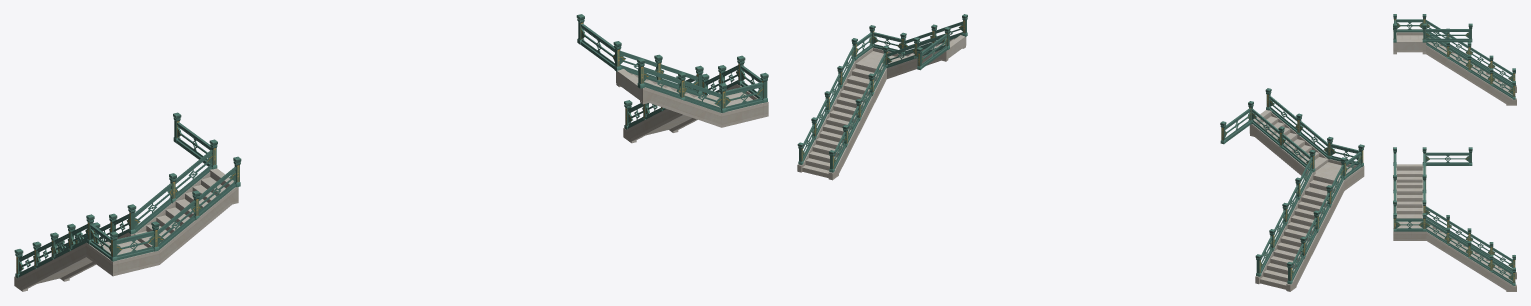
File: Homeworld_Interior_Fd_Room_P_Stair_Vo.fbx
The picture shows the model from 3 angles, left to right: view 1: azimuth 30°, elevation 25°; view 2: azimuth 150°, elevation 25°; view 3: azimuth 270°, elevation 25°; orthographic projection. The views are drawn at different scales.
Parts seen in each view (by area): view 1: Homeworld_Interior_Fd_Room_P_Stair_01_Vo, Homeworld_Interior_Fd_Room_P_Stair_01_01_Vo; view 2: Homeworld_Interior_Fd_Room_P_Stair_01_Vo, Homeworld_Interior_Fd_Room_P_Stair_01_01_Vo; view 3: Homeworld_Interior_Fd_Room_P_Stair_01_01_Vo, Homeworld_Interior_Fd_Room_P_Stair_01_Vo.
Boxes of the visible parts, x1,y1,x2,y2 form: Homeworld_Interior_Fd_Room_P_Stair_01_Vo: [14, 112, 241, 291]; Homeworld_Interior_Fd_Room_P_Stair_01_01_Vo: [576, 14, 768, 143]; Homeworld_Interior_Fd_Room_P_Stair_01_Vo: [1220, 88, 1364, 291]; Homeworld_Interior_Fd_Room_P_Stair_01_01_Vo: [797, 14, 967, 180]; Homeworld_Interior_Fd_Room_P_Stair_01_01_Vo: [1393, 147, 1516, 291]; Homeworld_Interior_Fd_Room_P_Stair_01_Vo: [1393, 14, 1516, 105].
Bounding box in the file's own units: 24.48 × 6.03 × 6.37.
